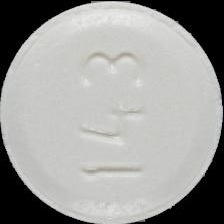68788-6325: (0, 0, 224, 224)
